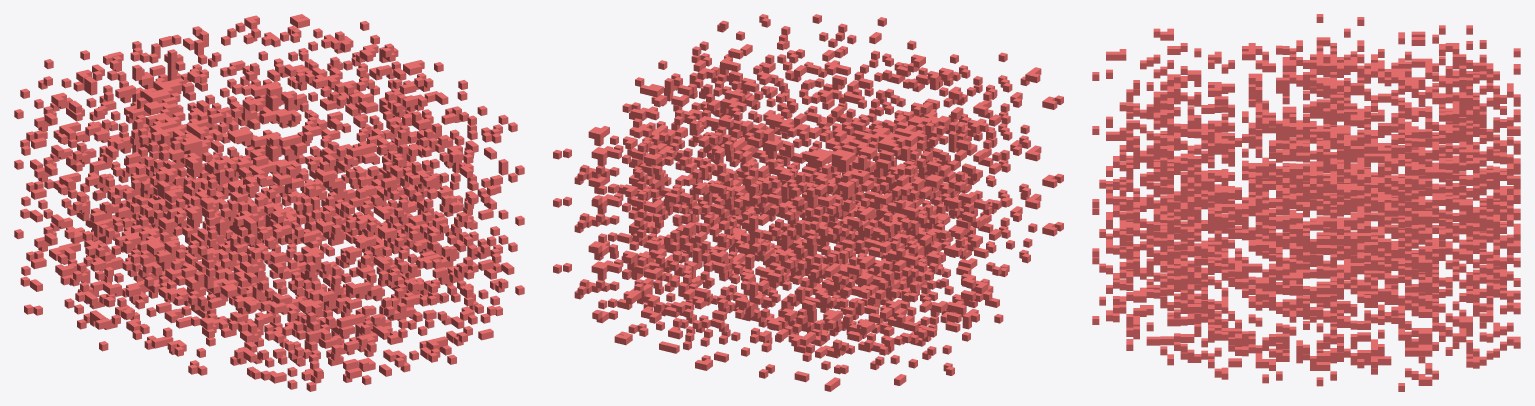
The model's file is Map v2-10-3D noise texture.obj.
3 renders of one model, left to right at view 1: azimuth 30°, elevation 25°; view 2: azimuth 150°, elevation 25°; view 3: azimuth 270°, elevation 25°, orthographic. The views are drawn at different scales.
Visible parts, largest first — view 1: 3D noise texture; view 2: 3D noise texture; view 3: 3D noise texture.
Part boxes in pixels (x1,y1,x2,y2): 3D noise texture: (14,14,524,391); 3D noise texture: (553,14,1063,391); 3D noise texture: (1092,14,1520,391).
Size of the model in its own units: 6.3 by 3.2 by 6.3.
1 material, 1 textured.
